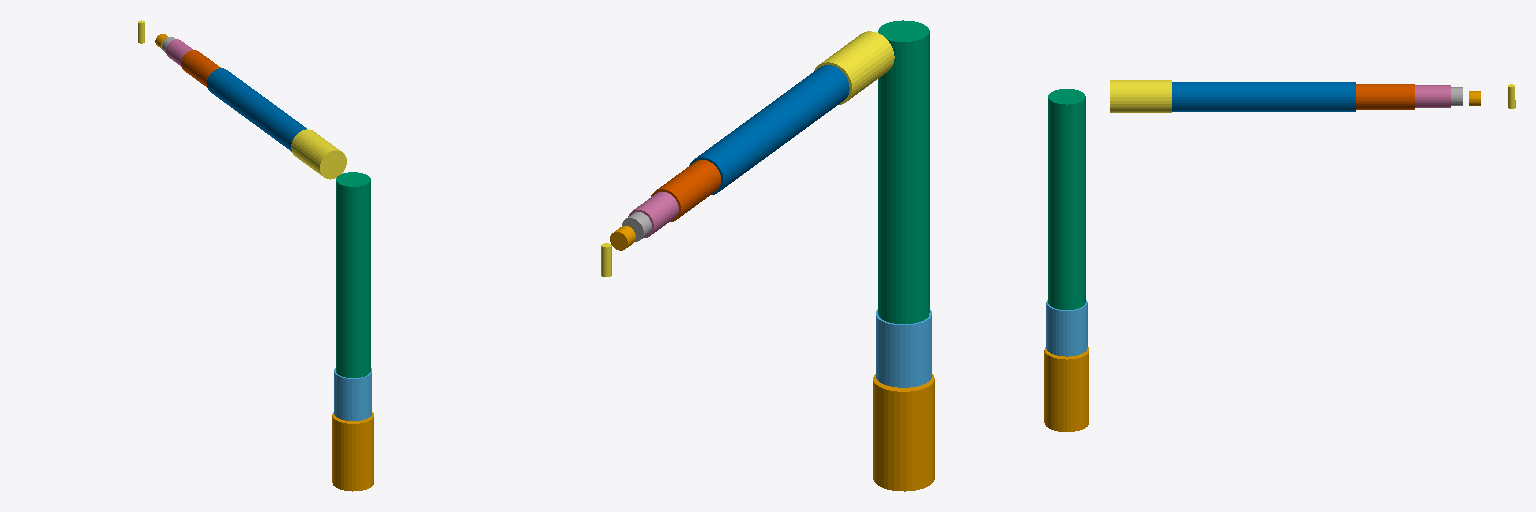
URDF robot description (myArm750):
<?xml version="1.0"?>
<robot name="myArm750">

    <!-- Base Link -->
    <link name="base_link">
        <inertial>
            <mass value="1.0" />
            <origin xyz="0 0 0" rpy="0 0 0"/>
            <inertia ixx="0.1" ixy="0" ixz="0" iyy="0.1" iyz="0" izz="0.1" />
        </inertial>
        <visual>
            <origin xyz="0.0 0.0 0.05035" rpy="0.0 0.0 0.0"/>
            <geometry>
                <cylinder radius="0.03" length="0.107"/>
            </geometry>
        </visual>
    </link>

    <!-- Link 1 -->
    <link name="link1">
        <inertial>
            <mass value="0.5" />
            <origin xyz="0 0 0" rpy="0 0 0"/>
            <inertia ixx="0.05" ixy="0" ixz="0" iyy="0.05" iyz="0" izz="0.05" />
        </inertial>
        <visual>
            <origin xyz="0.0 0.0 0.03345" rpy="0.0 0.0 0.0"/>
            <geometry>
                <cylinder radius="0.0275" length="0.0669"/>
            </geometry>
        </visual>
    </link>

    <!-- Joint 1 -->
    <joint name="joint1" type="revolute">
        <parent link="base_link"/>
        <child link="link1"/>
        <origin xyz="0 0 0.107" rpy="0 0 0"/>
        <axis xyz="0 0 1"/>
        <limit lower="-1.57" upper="1.57" effort="10" velocity="1"/>
    </joint>

    <!-- Link 2 -->
    <link name="link2">
        <inertial>
            <mass value="0.5" />
            <origin xyz="0 0 0" rpy="0 0 0"/>
            <inertia ixx="0.05" ixy="0" ixz="0" iyy="0.05" iyz="0" izz="0.05" />
        </inertial>
        <visual>
            <origin xyz="0.0 0.0 0.1515" rpy="0.0 0.0 0.0"/>
            <geometry>
                <cylinder radius="0.025" length="0.303"/>
            </geometry>
        </visual>
    </link>

    <!-- Joint 2 -->
    <joint name="joint2" type="revolute">
        <parent link="link1"/>
        <child link="link2"/>
        <origin xyz="0 0 0.0669" rpy="0 0 0"/>
        <axis xyz="1 0 0"/>
        <limit lower="-1.57" upper="1.57" effort="10" velocity="1"/>
    </joint>

    <!-- Link 3 -->
    <link name="link3">
        <inertial>
            <mass value="0.5" />
            <origin xyz="0 0 0" rpy="0 0 0"/>
            <inertia ixx="0.05" ixy="0" ixz="0" iyy="0.05" iyz="0" izz="0.05" />
        </inertial>
        <visual>
            <origin xyz="0.0 0.041265 0.0" rpy="1.5708 0.0 0.0"/>
            <geometry>
                <cylinder radius="0.0225" length="0.08253"/>
            </geometry>
        </visual>
    </link>

    <!-- Joint 3 -->
    <joint name="joint3" type="revolute">
        <parent link="link2"/>
        <child link="link3"/>
        <origin xyz="0 0.057 0.303" rpy="0 0 0"/>
        <axis xyz="1 0 0"/>
        <limit lower="-1.57" upper="1.57" effort="10" velocity="1"/>
    </joint>

    <!-- Link 4 -->
    <link name="link4">
        <inertial>
            <mass value="0.5" />
            <origin xyz="0 0 0" rpy="0 0 0"/>
            <inertia ixx="0.05" ixy="0" ixz="0" iyy="0.05" iyz="0" izz="0.05" />
        </inertial>
        <visual>
            <origin xyz="0.0 0.123369 0.0" rpy="1.5708 0.0 0.0"/>
            <geometry>
                <cylinder radius="0.020" length="0.24538"/>
            </geometry>
        </visual>
    </link>

    <!-- Joint 4 -->
    <joint name="joint4" type="revolute">
        <parent link="link3"/>
        <child link="link4"/>
        <origin xyz="0 0.08253 0" rpy="0 0 0"/>
        <axis xyz="0 1 0"/>
        <limit lower="-1.57" upper="1.57" effort="10" velocity="1"/>
    </joint>

    <!-- Link 5 -->
    <link name="link5">
        <inertial>
            <mass value="0.5" />
            <origin xyz="0 0 0" rpy="0 0 0"/>
            <inertia ixx="0.05" ixy="0" ixz="0" iyy="0.05" iyz="0" izz="0.05" />
        </inertial>
        <visual>
            <origin xyz="0.0 0.0395 0.0" rpy="1.5708 0.0 0.0"/>
            <geometry>
                <cylinder radius="0.0175" length="0.079"/>
            </geometry>
        </visual>
    </link>

    <!-- Joint 5 -->
    <joint name="joint5" type="revolute">
        <parent link="link4"/>
        <child link="link5"/>
        <origin xyz="0 0.24538 0" rpy="0 0 0"/>
        <axis xyz="1 0 0"/>
        <limit lower="-1.57" upper="1.57" effort="10" velocity="1"/>
    </joint>

    <!-- Link 6 -->
    <link name="link6">
        <inertial>
            <mass value="0.5" />
            <origin xyz="0 0 0" rpy="0 0 0"/>
            <inertia ixx="0.05" ixy="0" ixz="0" iyy="0.05" iyz="0" izz="0.05" />
        </inertial>
        <visual>
            <origin xyz="0.0 0.024 0.0" rpy="1.5708 0.0 0.0"/>
            <geometry>
                <cylinder radius="0.015" length="0.048"/>
            </geometry>
        </visual>
    </link>

    <!-- Joint 6 -->
    <joint name="joint6" type="revolute">
        <parent link="link5"/>
        <child link="link6"/>
        <origin xyz="0 0.079 0" rpy="0 0 0"/>
        <axis xyz="0 1 0"/>
        <limit lower="-1.57" upper="1.57" effort="10" velocity="1"/>
    </joint>

    <!-- Link 7 -->
    <link name="wrist">
        <inertial>
            <mass value="0.5" />
            <origin xyz="0 0 0" rpy="0 0 0"/>
            <inertia ixx="0.05" ixy="0" ixz="0" iyy="0.05" iyz="0" izz="0.05" />
        </inertial>
        <visual>
            <origin xyz="0.0 0.008 0.0" rpy="1.5708 0.0 0.0"/>
            <geometry>
                <cylinder radius="0.0125" length="0.016"/>
            </geometry>
        </visual>
    </link>

    <!-- Joint 7 -->
    <joint name="joint7" type="revolute">
        <parent link="link6"/>
        <child link="wrist"/>
        <origin xyz="0 0.048 0" rpy="0 0 0"/>
        <axis xyz="0 0 1"/>
        <limit lower="-0.40" upper="0.40" effort="10" velocity="1"/>
    </joint>

    <!-- Link 8 -->
    <link name="meta2_c">
        <inertial>
            <mass value="0.5" />
            <origin xyz="0 0 0" rpy="0 0 0"/>
            <inertia ixx="0.05" ixy="0" ixz="0" iyy="0.05" iyz="0" izz="0.05" />
        </inertial>
        <visual>
            <origin xyz="0.0 0.0 0.0" rpy="1.5708 0.0 0.0"/>
            <geometry>
                <cylinder radius="0.01" length="0.016"/>
            </geometry>
        </visual>
    </link>

    <!-- Joint 8 -->
    <joint name="joint8" type="revolute">
        <parent link="wrist"/>
        <child link="meta2_c"/>
        <origin xyz="0.0011 0.0326447 -0.0025" rpy="0 0 0"/>
        <axis xyz="1 0 0"/>
        <limit lower="-1.57" upper="1.57" effort="10" velocity="1"/>
    </joint>

    <!-- Link 9 -->
    <link name="meta1_c_1">
        <inertial>
            <mass value="0.5" />
            <origin xyz="0 0 0" rpy="0 0 0"/>
            <inertia ixx="0.05" ixy="0" ixz="0" iyy="0.05" iyz="0" izz="0.05" />
        </inertial>
    </link>
    <link name="meta1_c_2">
        <inertial>
            <mass value="0.5" />
            <origin xyz="0 0 0" rpy="0 0 0"/>
            <inertia ixx="0.05" ixy="0" ixz="0" iyy="0.05" iyz="0" izz="0.05" />
        </inertial>
    </link>
    <link name="meta1_c_3">
        <inertial>
            <mass value="0.5" />
            <origin xyz="0 0 0" rpy="0 0 0"/>
            <inertia ixx="0.05" ixy="0" ixz="0" iyy="0.05" iyz="0" izz="0.05" />
        </inertial>
        <visual>
            <origin xyz="0.0 0.0 0.0" rpy="0.0 0.0 0.0"/>
            <geometry>
                <cylinder radius="0.005" length="0.032"/>
            </geometry>
        </visual>
    </link>

    <!-- Joint 9 -->
    <joint name="joint9_1" type="fixed">
        <parent link="meta2_c"/>
        <child link="meta1_c_1"/>
        <origin xyz="-0.0096137 0.0489203 -0.00165902" rpy="0.002443461 0 0"/>
        <axis xyz="0 0 0"/>
        <limit lower="-3.14" upper="3.14" effort="10" velocity="1"/>
    </joint>
    <joint name="joint9_2" type="fixed">
        <parent link="meta1_c_1"/>
        <child link="meta1_c_2"/>
        <origin xyz="0 0 0" rpy="0 0 0.06021386"/>
        <axis xyz="0 0 0"/>
        <limit lower="-3.14" upper="3.14" effort="10" velocity="1"/>
    </joint>
    <joint name="joint9_3" type="revolute">
        <parent link="meta1_c_2"/>
        <child link="meta1_c_3"/>
        <origin xyz="0 0 0" rpy="0 0 0"/>
        <axis xyz="0 1 0"/>
        <limit lower="-0.08" upper="0.08" effort="10" velocity="1"/>
    </joint>

</robot>

--- Facts derived from the render (not from the file) ---
Views: 3 orthographic renders of the robot side by side, from view 1: azimuth 30°, elevation 25°; view 2: azimuth 150°, elevation 25°; view 3: azimuth 270°, elevation 25°.
Model myArm750 with 12 links and 11 joints (9 revolute, 2 fixed), rooted at base_link, posed every joint at zero.
Visible links, largest first — view 1: link2, base_link, link4, link3, link1, link5; view 2: link2, link4, base_link, link1, link3, link5, link6; view 3: link2, link4, base_link, link3, link1, link5, link6.
Boxes of the visible links, <box> form: link2: <box>336,172,370,377</box>; base_link: <box>332,412,373,491</box>; link4: <box>207,68,306,151</box>; link3: <box>291,129,346,179</box>; link1: <box>334,368,371,420</box>; link5: <box>181,50,220,86</box>; link2: <box>878,20,929,323</box>; link4: <box>689,65,849,194</box>; base_link: <box>873,374,934,491</box>; link1: <box>876,309,931,387</box>; link3: <box>814,31,894,104</box>; link5: <box>651,160,720,221</box>; link6: <box>628,192,678,237</box>; link2: <box>1048,89,1085,309</box>; link4: <box>1172,82,1355,111</box>; base_link: <box>1044,347,1088,431</box>; link3: <box>1110,80,1171,112</box>; link1: <box>1046,300,1087,356</box>; link5: <box>1356,84,1414,109</box>; link6: <box>1415,85,1450,107</box>.
Size in the robot's own frame: 0.06 by 0.6285 by 0.5026 metres.
Geometry: primitives only (box / cylinder / sphere), no mesh files.